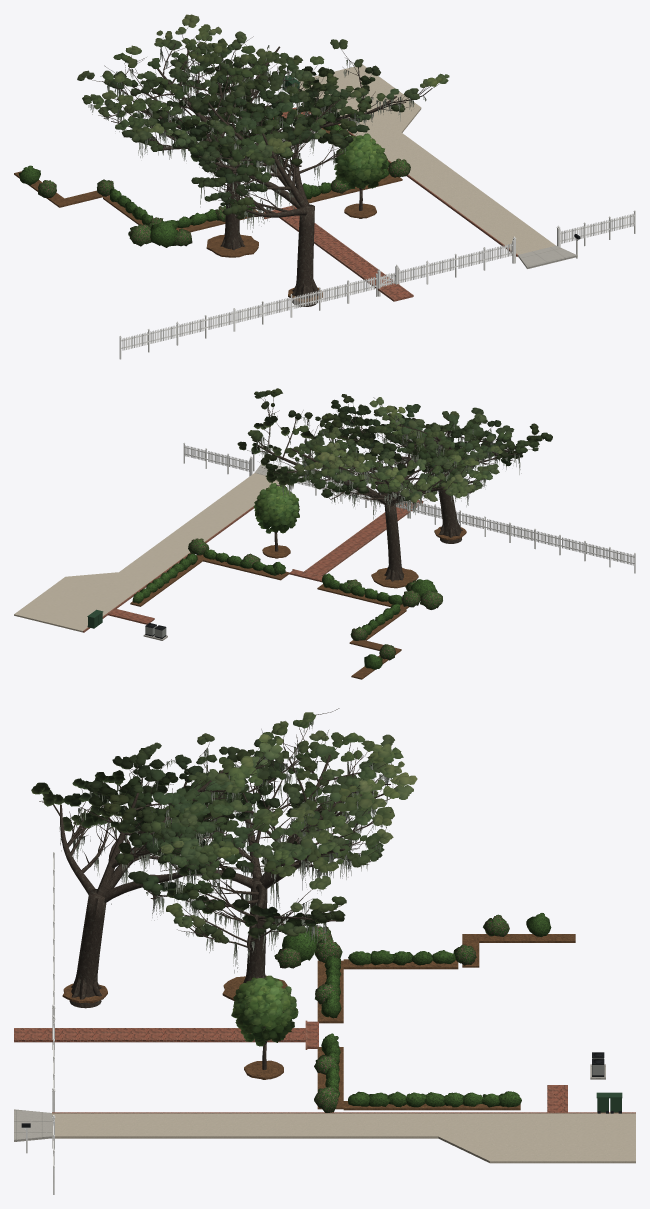
The model's file is monet-williams-house-lot.glb.
3 views of the same model, one above another, from view 1: azimuth 30°, elevation 25°; view 2: azimuth 150°, elevation 25°; view 3: azimuth 270°, elevation 25° (orthographic). The views are drawn at different scales.
Visible parts, largest first — view 1: Tree_LiveOak_2_Leaves, Tree_LiveOak_1_Leaves, Lot_Drive, Lot_Fence, Tree_LiveOak_1, Lot_Shrubs, Tree_LiveOak_2, Lot_Beds, Tree_Ornamental_Leaves, Lot_Walk; view 2: Tree_LiveOak_2_Leaves, Lot_Drive, Tree_LiveOak_1_Leaves, Lot_Shrubs, Lot_Fence, Tree_LiveOak_2, Lot_Beds, Lot_Walk, Tree_Ornamental_Leaves, Tree_LiveOak_1, Lot_Props; view 3: Tree_LiveOak_2_Leaves, Lot_Drive, Tree_LiveOak_1_Leaves, Lot_Shrubs, Tree_LiveOak_1, Tree_LiveOak_2, Lot_Beds, Lot_Walk, Tree_Ornamental_Leaves, Lot_Props, Lot_Fence.
Boxes of the visible parts, x1,y1,x2,y2 form: Tree_LiveOak_2_Leaves: (77, 14, 449, 172); Tree_LiveOak_1_Leaves: (174, 31, 369, 232); Lot_Drive: (298, 64, 577, 268); Lot_Fence: (119, 210, 635, 359); Tree_LiveOak_1: (173, 36, 357, 306); Lot_Shrubs: (19, 113, 410, 247); Tree_LiveOak_2: (87, 28, 439, 257); Lot_Beds: (14, 128, 402, 302); Tree_Ornamental_Leaves: (333, 133, 387, 188); Lot_Walk: (264, 107, 413, 301); Tree_LiveOak_2_Leaves: (237, 388, 502, 521); Lot_Drive: (14, 463, 300, 632); Tree_LiveOak_1_Leaves: (321, 394, 552, 481); Lot_Shrubs: (132, 538, 442, 669); Lot_Fence: (183, 442, 635, 573); Tree_LiveOak_2: (247, 397, 494, 581); Lot_Beds: (130, 526, 466, 679); Lot_Walk: (108, 500, 423, 624); Tree_Ornamental_Leaves: (253, 483, 299, 533); Tree_LiveOak_1: (332, 397, 543, 543); Lot_Props: (87, 609, 167, 640); Tree_LiveOak_2_Leaves: (103, 712, 417, 973); Lot_Drive: (14, 1109, 635, 1163); Tree_LiveOak_1_Leaves: (31, 734, 283, 920); Lot_Shrubs: (274, 913, 551, 1112); Tree_LiveOak_1: (39, 750, 272, 1008); Tree_LiveOak_2: (115, 708, 398, 982); Lot_Beds: (62, 934, 575, 1110); Lot_Walk: (14, 1020, 567, 1112); Tree_Ornamental_Leaves: (231, 975, 298, 1046); Lot_Props: (590, 1052, 622, 1113); Lot_Fence: (21, 852, 55, 1194).
Size of the model in its own units: 43.22 by 16.98 by 36.16.
15 materials, 9 textured.
